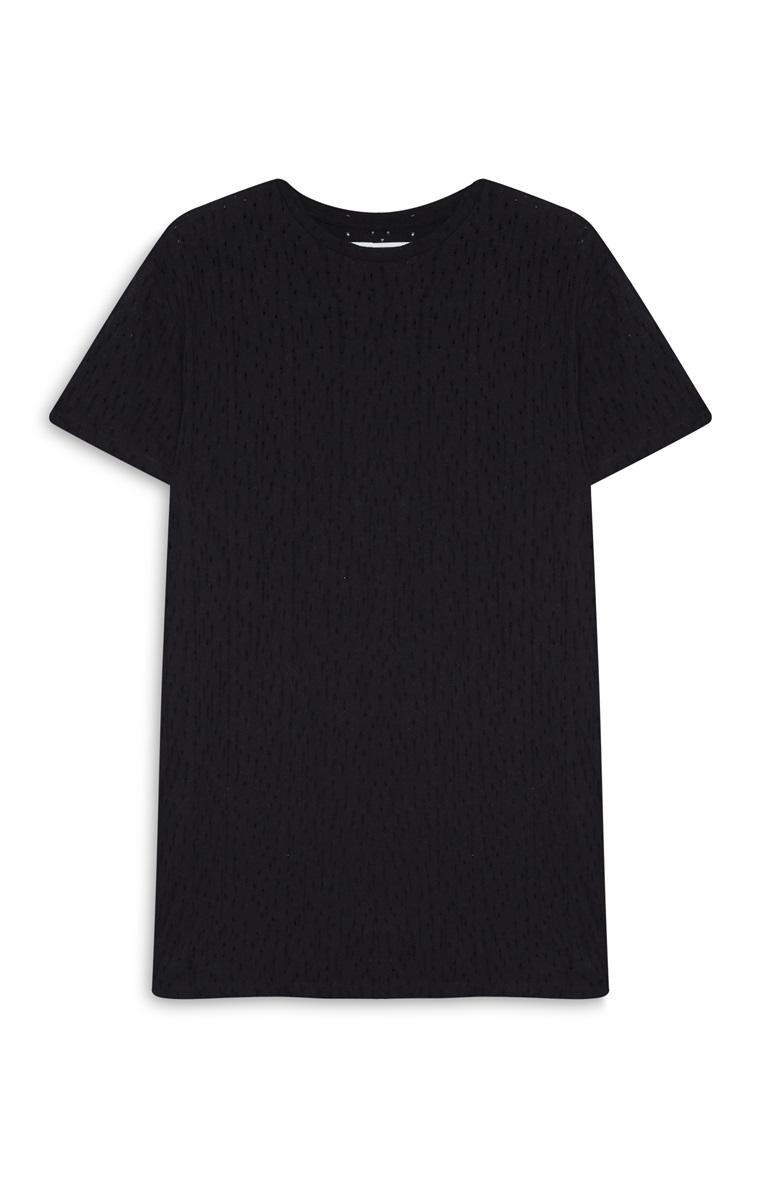teeshirt: (14, 168, 752, 1052)
